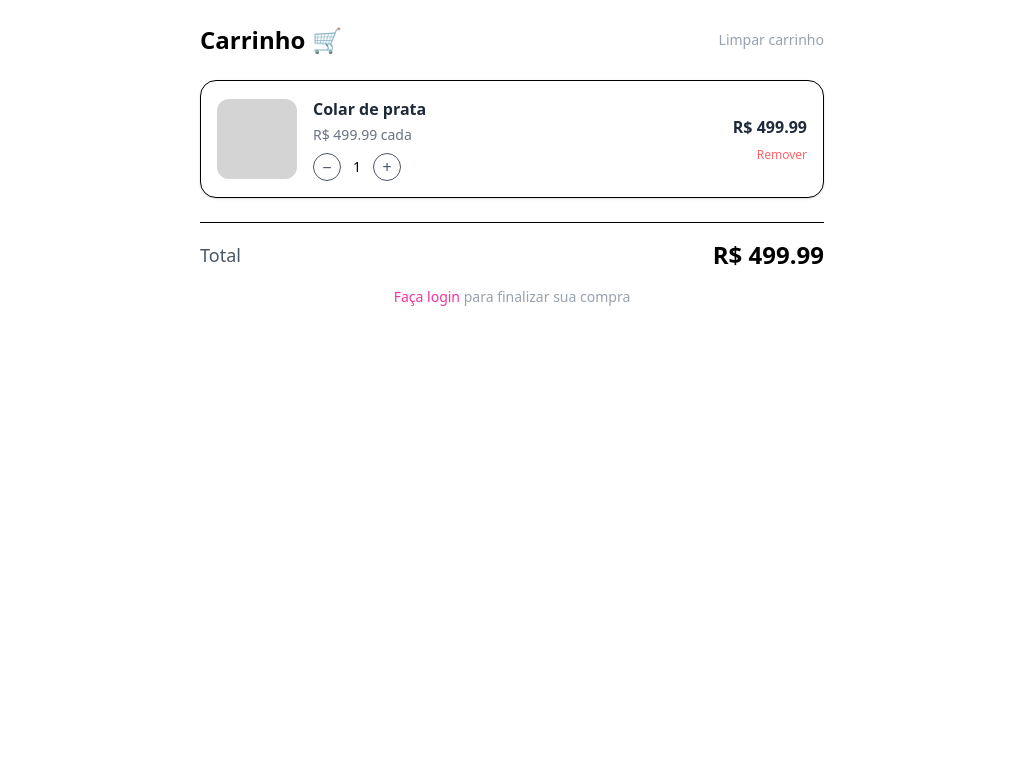
CartPage › carrinho com itens — não logado › abre modal de login ao clicar em Faça login
Click the button "Faça login" at x=427, y=297, box [394,287,460,307]
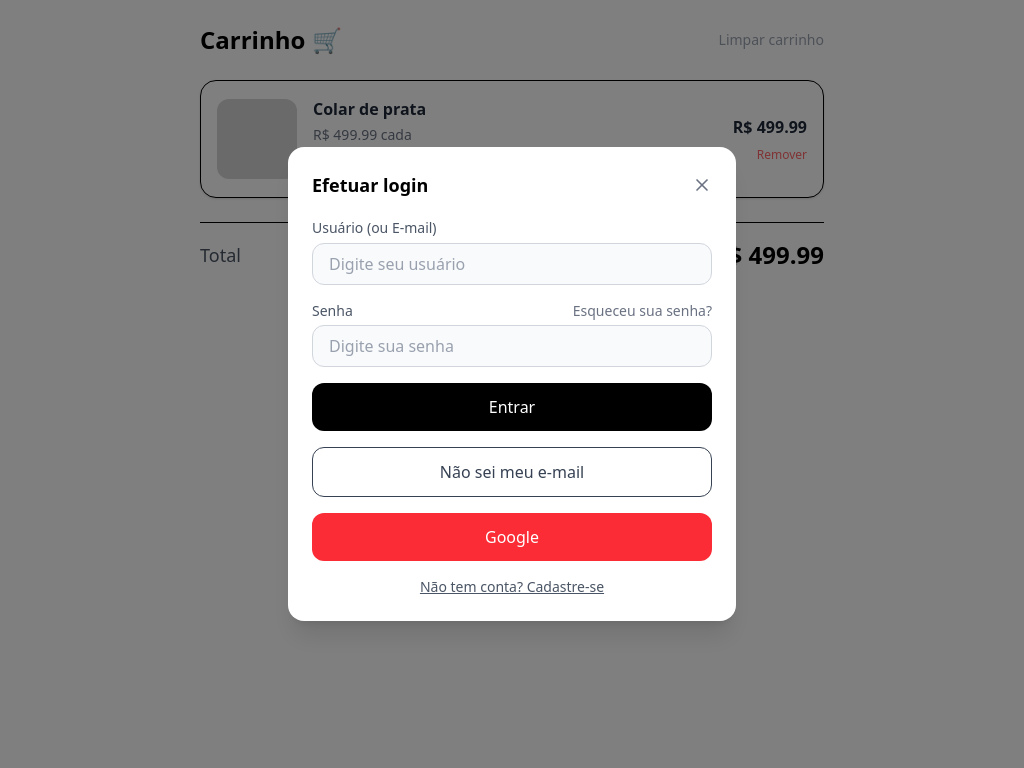
Now the heading "Efetuar login" is shown, box [312,171,428,199]
